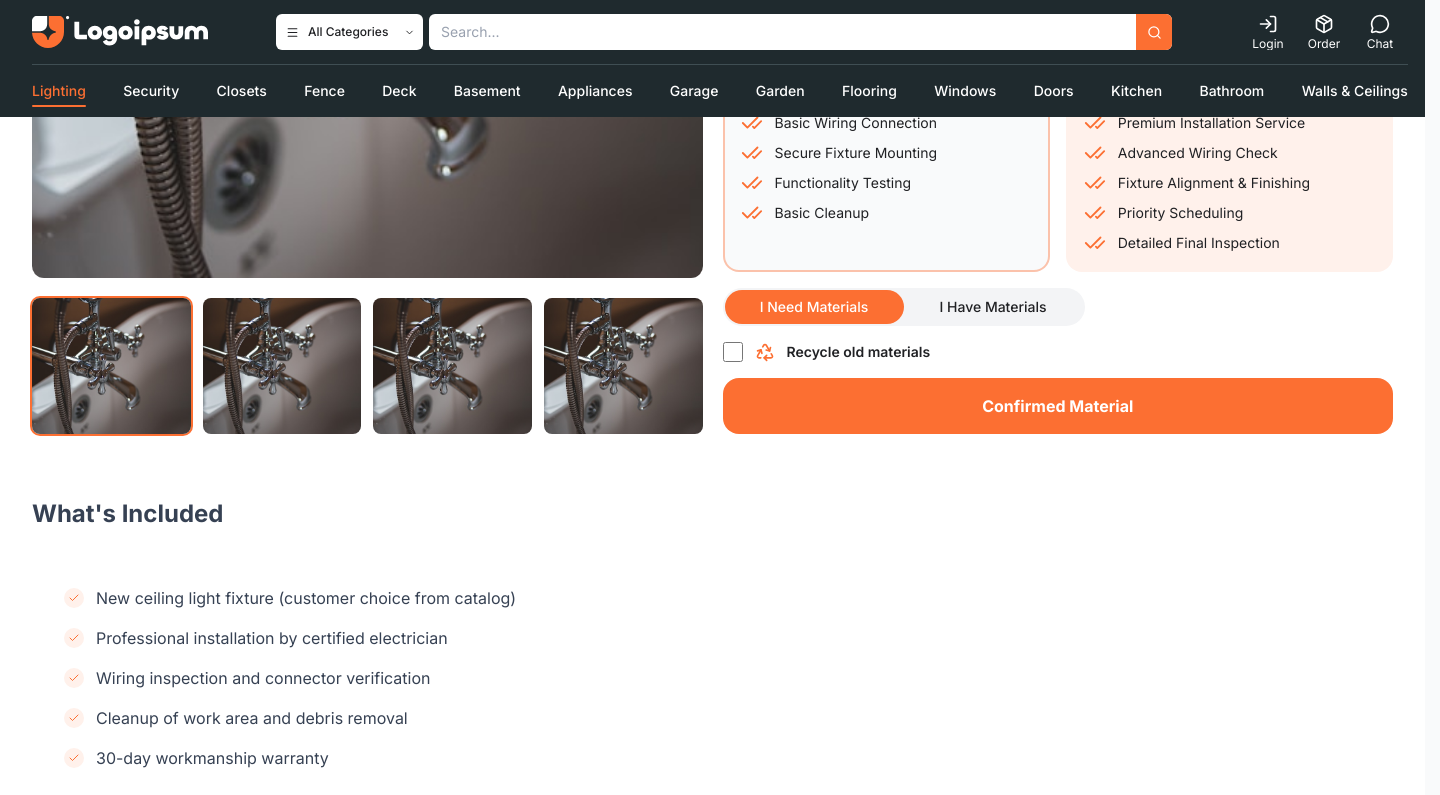
Test: Service details chat › keeps chat hidden until the user selects Chat after Apply
(page scrolled)
Click the button "Confirmed Material": (1058, 406) [722, 378, 1393, 434]
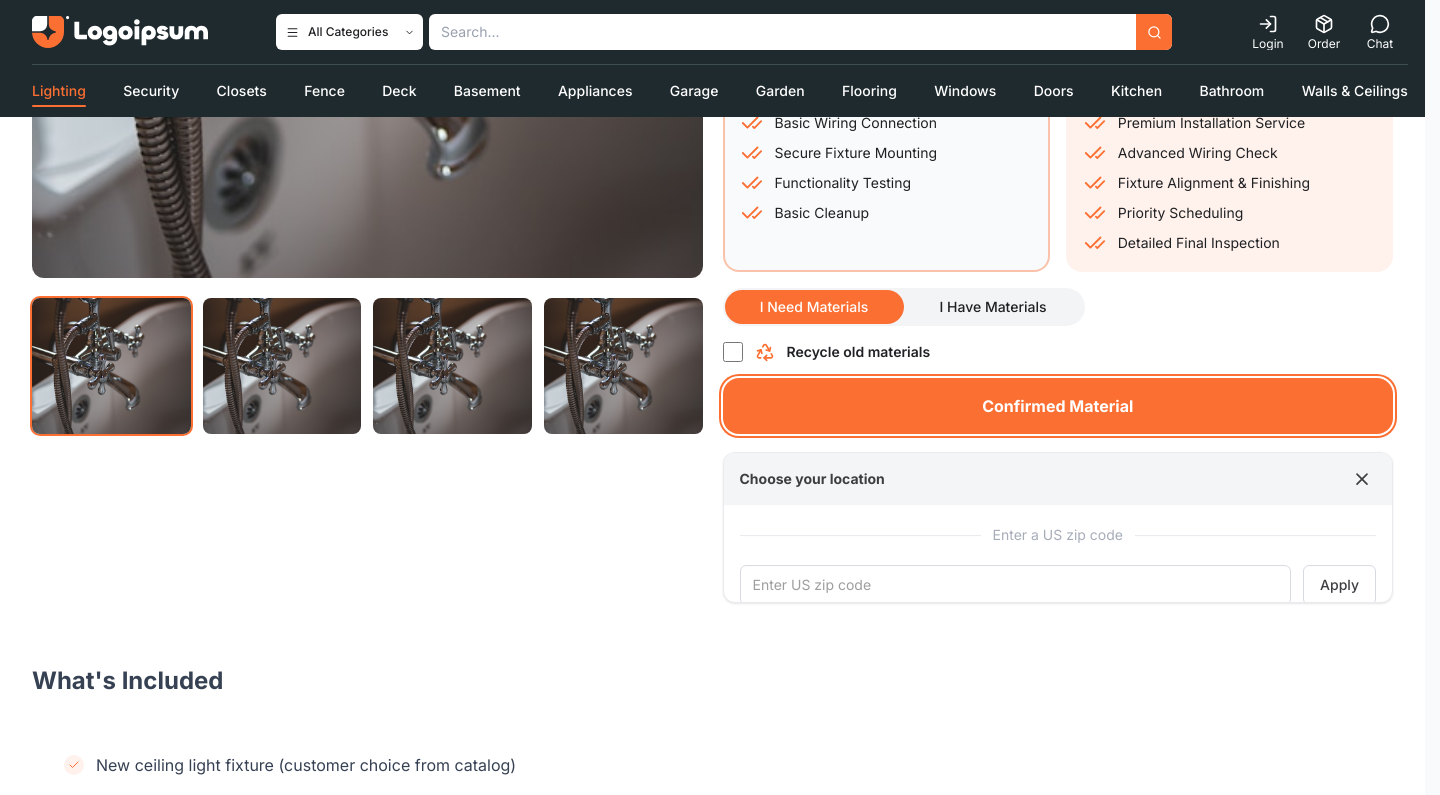
Expected: the button "Apply" is shown
Click the button "Apply": (1340, 585) [1303, 565, 1376, 605]
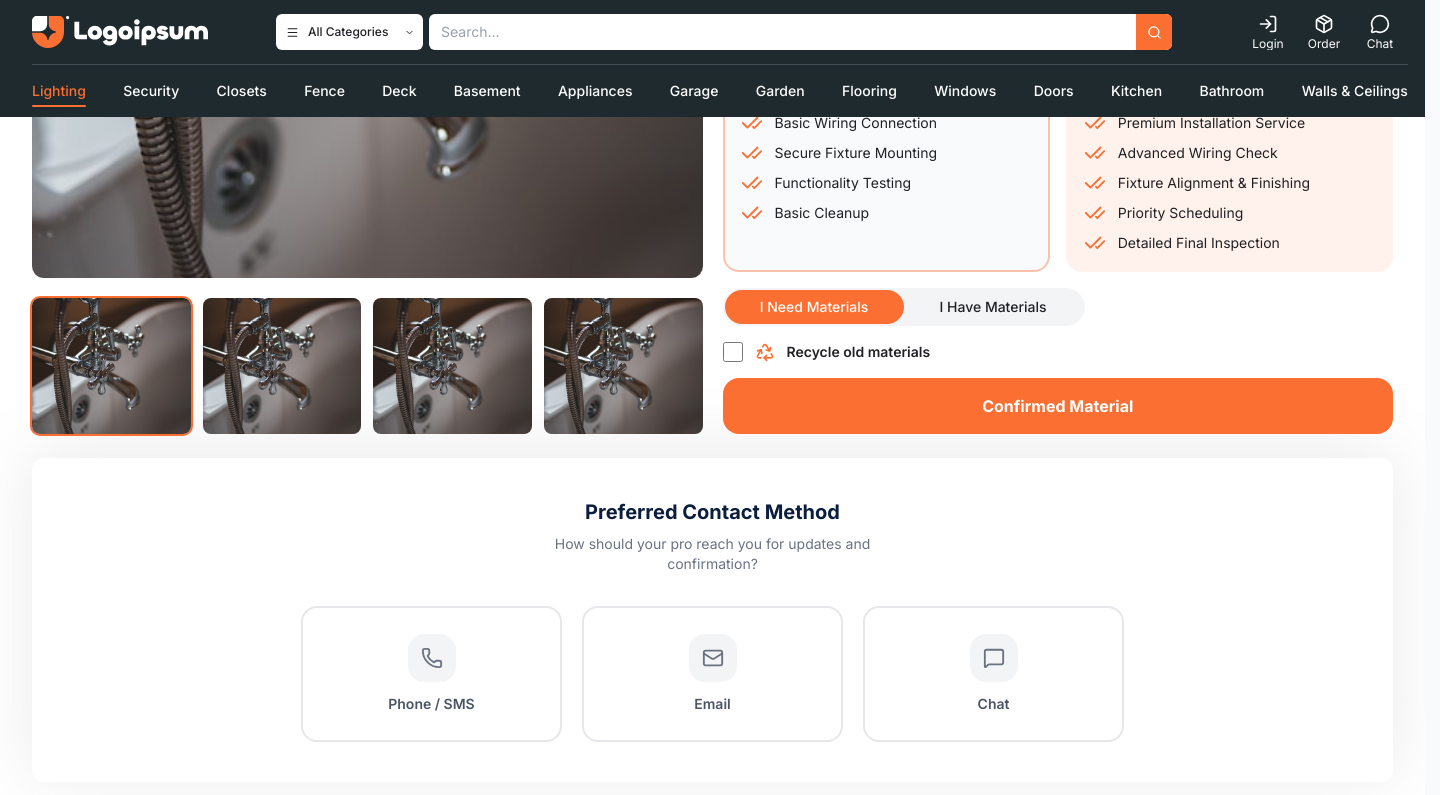
Expected: the element "Preferred Contact Method" is shown, [32, 458, 1393, 782]
